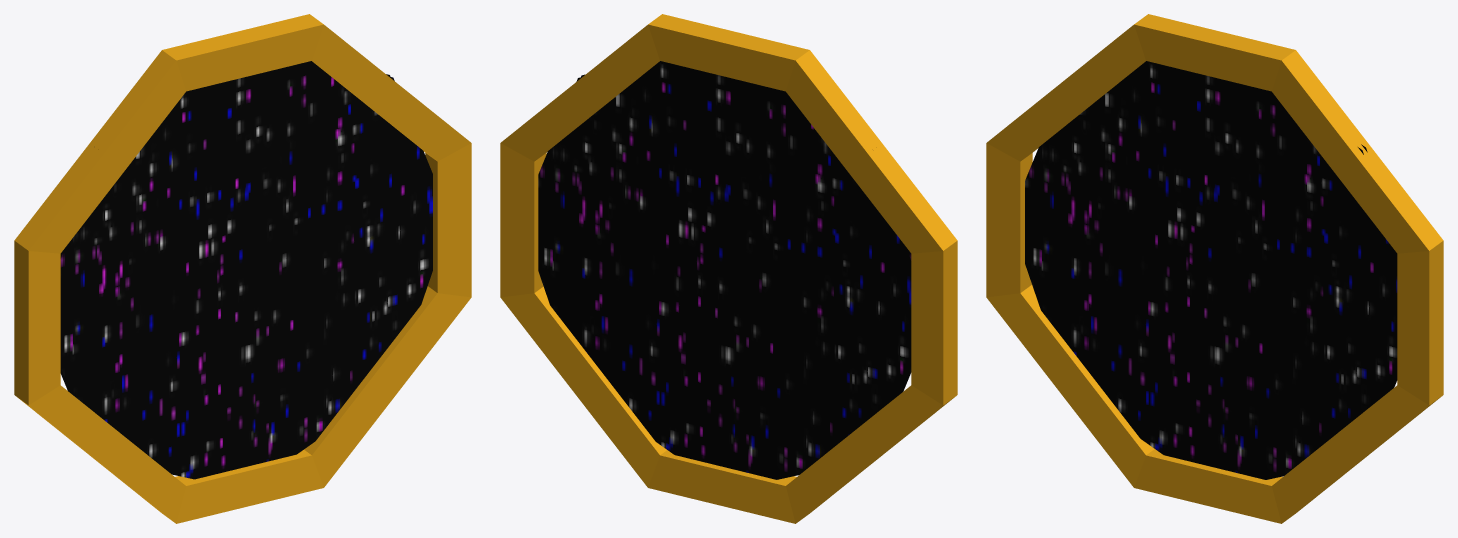
The model's file is portal.obj.
3 renders of one model, left to right at view 1: azimuth 30°, elevation 25°; view 2: azimuth 150°, elevation 25°; view 3: azimuth 330°, elevation 25°, orthographic.
Visible parts, largest first — view 1: portal; view 2: portal; view 3: portal.
Part boxes in pixels (x1,y1,x2,y2): portal: (14,14,471,523); portal: (500,14,957,523); portal: (986,14,1443,523).
Bounding box in the file's own units: 1.99 × 1.99 × 0.1117.
